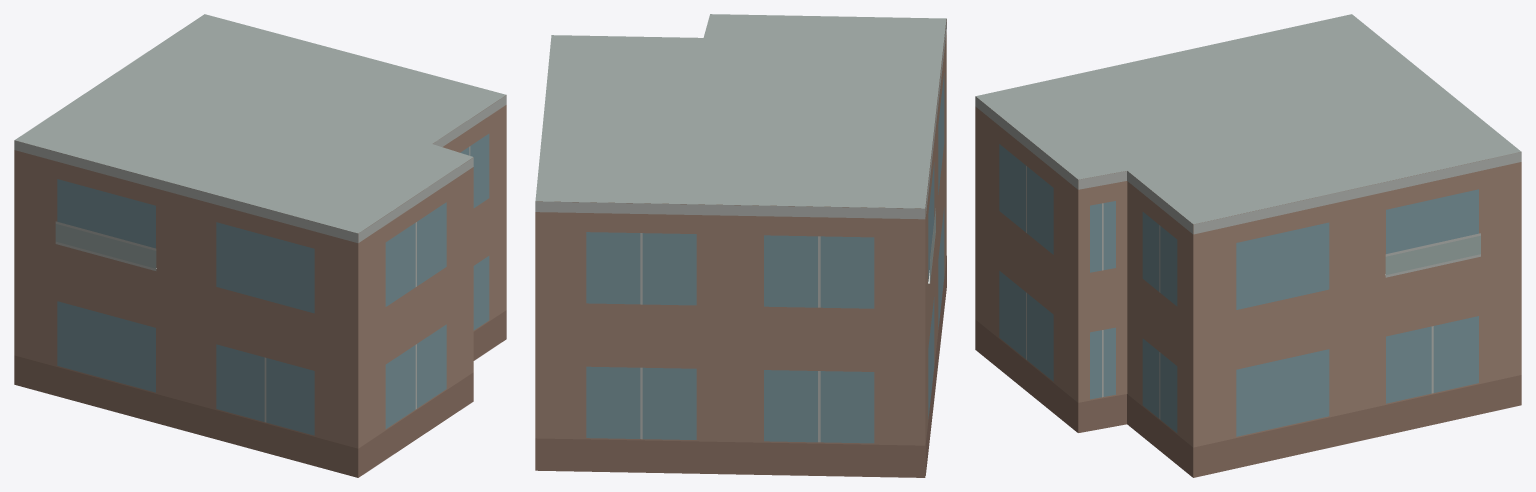
The model's file is survey-upis-32719296.glb.
3 renders of one model, left to right at view 1: azimuth 30°, elevation 25°; view 2: azimuth 150°, elevation 25°; view 3: azimuth 270°, elevation 25°, orthographic. The views are drawn at different scales.
Visible parts, largest first — view 1: survey-upis-32719296.tmp; view 2: survey-upis-32719296.tmp; view 3: survey-upis-32719296.tmp.
Boxes of the visible parts, x1,y1,x2,y2 form: survey-upis-32719296.tmp: [14, 14, 506, 477]; survey-upis-32719296.tmp: [535, 14, 946, 477]; survey-upis-32719296.tmp: [975, 14, 1521, 477].
Size of the model in its own units: 10.87 by 6.1 by 11.92.
